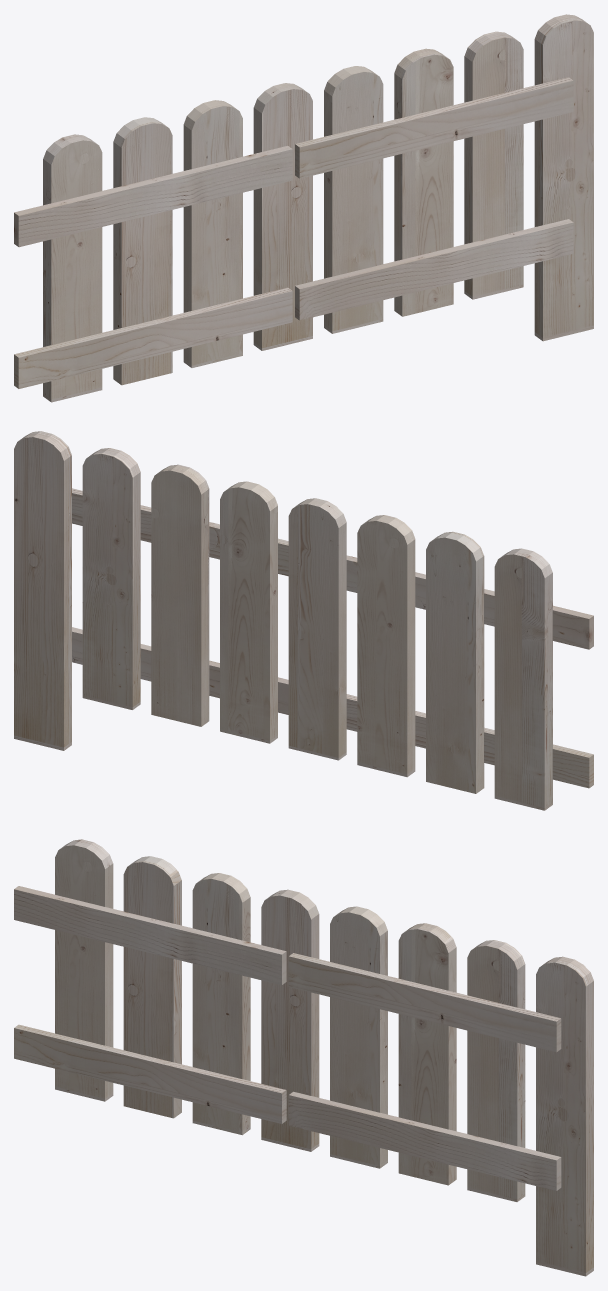
Rendered from GardenFence2A.fbx.
3 views of the same model, one above another, from view 1: azimuth 30°, elevation 25°; view 2: azimuth 150°, elevation 25°; view 3: azimuth 330°, elevation 25° (orthographic). The views are drawn at different scales.
Visible parts, largest first — view 1: GardenFence2A; view 2: GardenFence2A; view 3: GardenFence2A.
Boxes of the visible parts, left/top/right/bottom form: GardenFence2A: left=14, top=14, right=593, bottom=402; GardenFence2A: left=14, top=431, right=593, bottom=810; GardenFence2A: left=14, top=839, right=593, bottom=1276.
Bounding box in the file's own units: 206 × 107 × 8.01.
